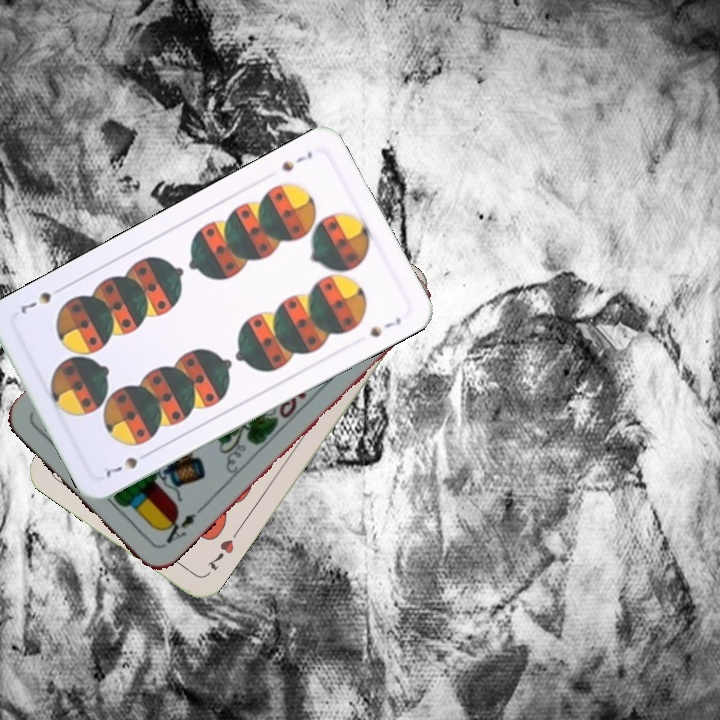EA: (157, 504, 205, 550)
H7: (203, 535, 237, 574)
S7: (98, 447, 154, 481), (278, 147, 315, 174)
